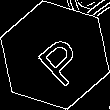P_NW: (23, 24, 87, 86)
